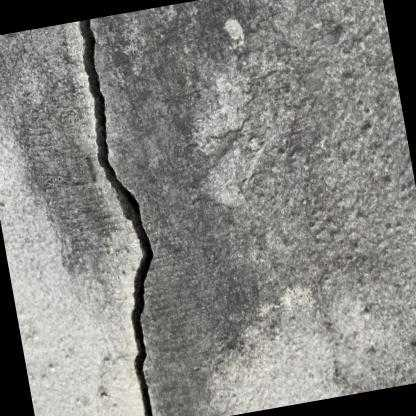crack: (75, 18, 153, 416)
